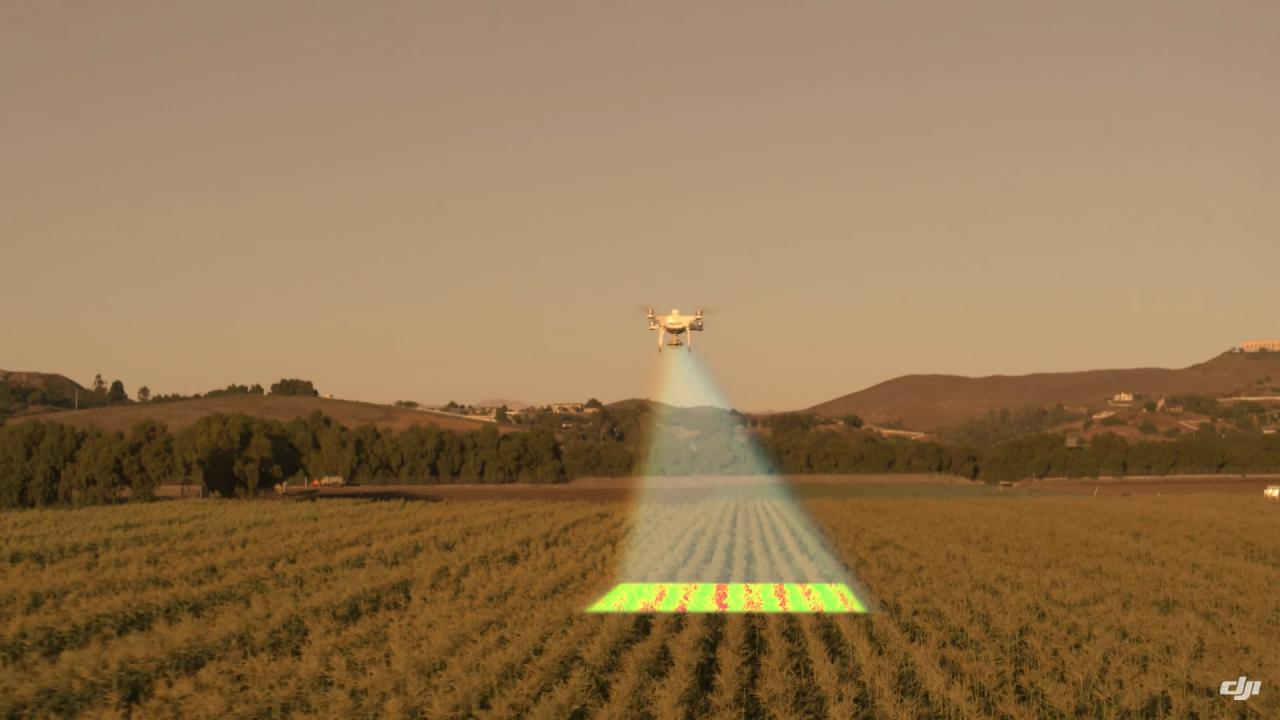Drone: (634, 294, 714, 362)
